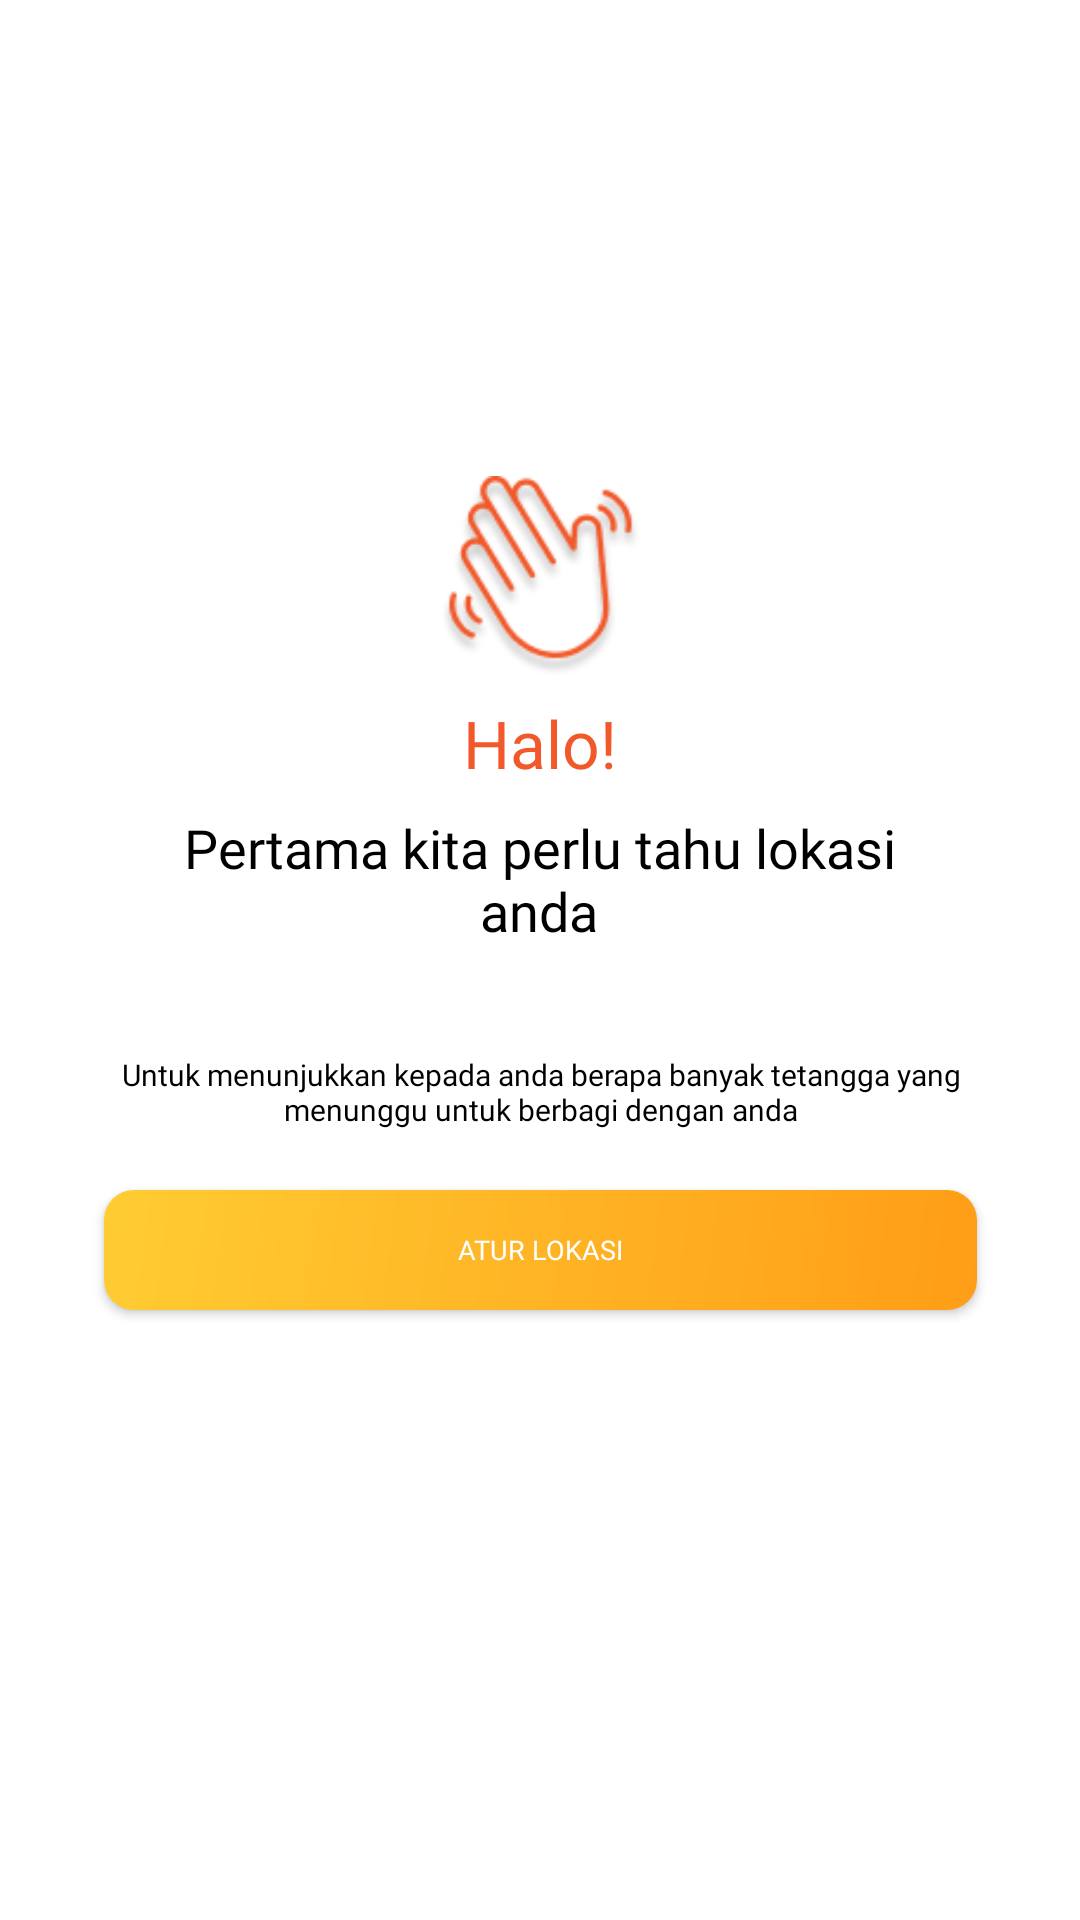

Icons on this 1080w x 1920h Android screen, each with the point to tap as (x=x, y=y):
wavehand: (x=540, y=572)
